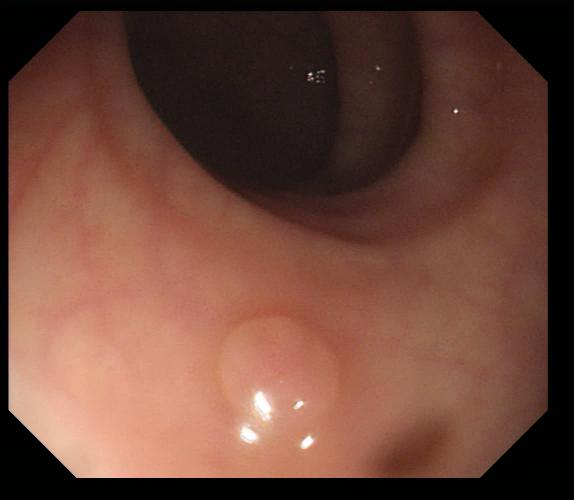polyp: (218, 314, 343, 439)
